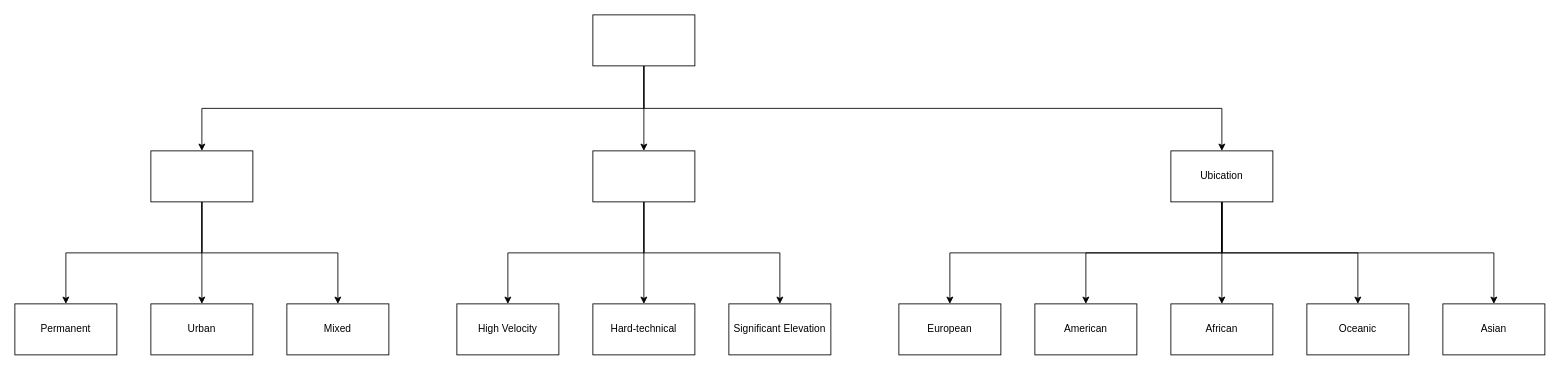
This 1560x370 diagram has some shape labels left out. The shapes that lost their labels are listed below. From the top down, each one's centre as x and y in pixels, then its label:
At point (643, 40): "Formula 1 Circuit".
At point (201, 176): "Circuit".
At point (643, 176): "Physical Characteristics".
